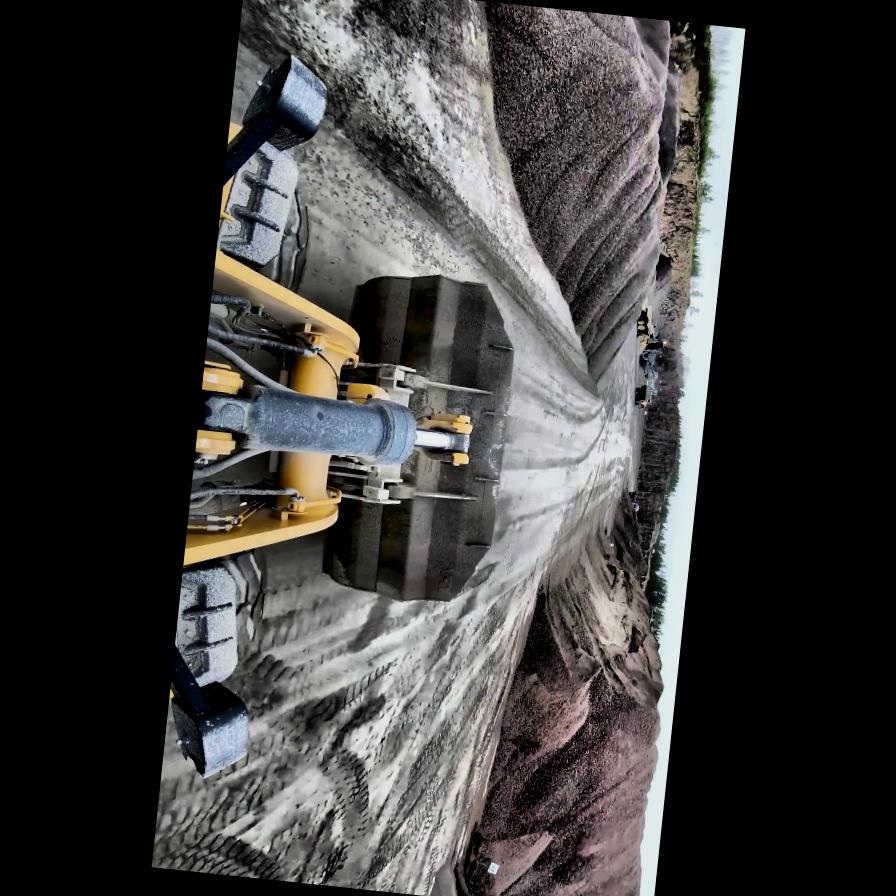anchor: (410, 410, 475, 466)
pile of gravel: (440, 1, 684, 392), (463, 510, 685, 896), (651, 57, 688, 198), (429, 855, 477, 896)
